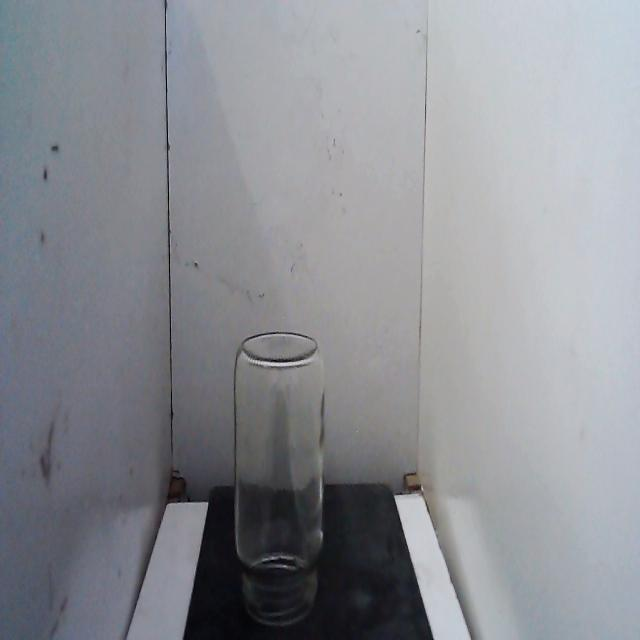vidro: (227, 322, 332, 634)
